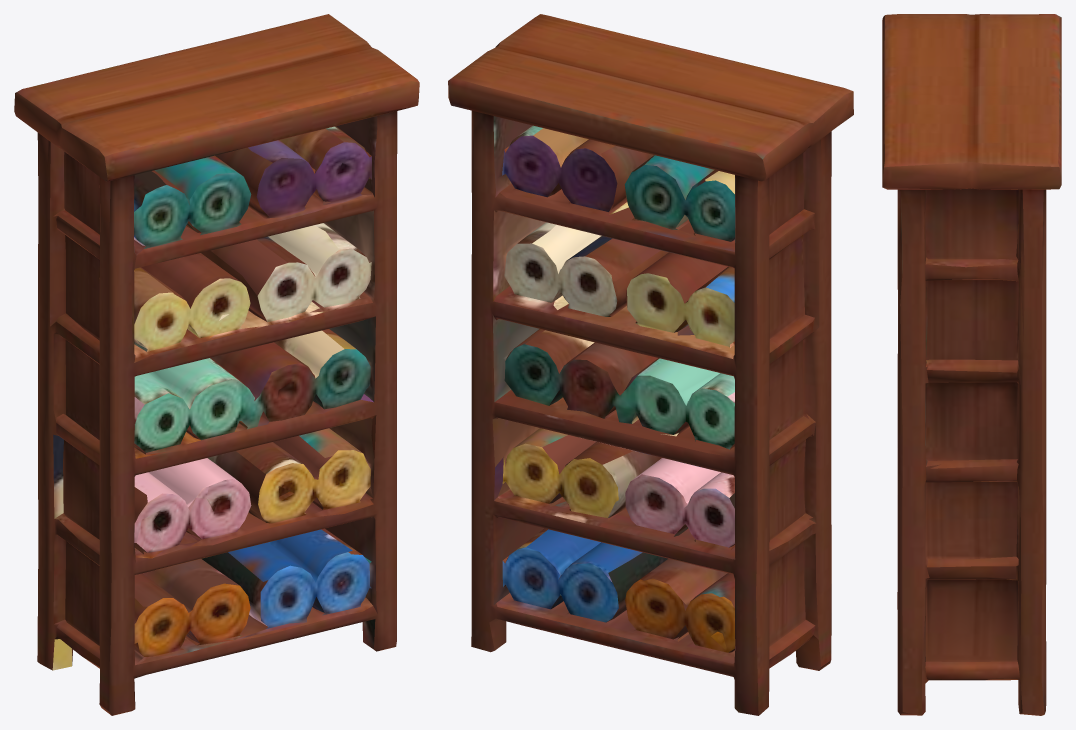
Rendered from bolt_shelf.glb.
3 renders of one model, left to right at view 1: azimuth 30°, elevation 25°; view 2: azimuth 150°, elevation 25°; view 3: azimuth 270°, elevation 25°, orthographic. The views are drawn at different scales.
Visible parts, largest first — view 1: bolt_shelf2; view 2: bolt_shelf2; view 3: bolt_shelf2.
Part boxes in pixels (bbox=[...]): bolt_shelf2: bbox=[14, 14, 419, 715]; bolt_shelf2: bbox=[448, 14, 853, 715]; bolt_shelf2: bbox=[882, 14, 1061, 715].
Size of the model in its own units: 0.5814 by 1 by 0.2904.
1 material, 1 textured.
